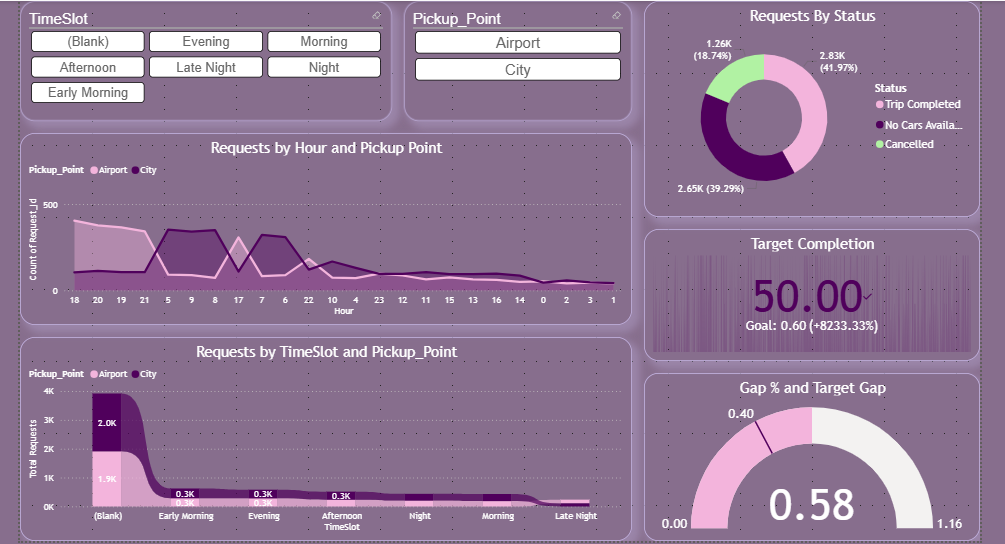

What the dashboard file says about the page in this screenshot:
{"tool":"powerbi","page":{"name":"Page 2","canvas":[1280,720],"ordinal":1},"visuals":[{"type":"ChicletSlicer1448559807354","fields":{"Category":["Uber Request Data.TimeSlot"]},"box":[0,0,496,160],"z":0},{"type":"ChicletSlicer1448559807354","fields":{"Category":["Uber Request Data.Pickup_Point"]},"box":[512,0,304,160],"z":1000},{"type":"ribbonChart","title":"Requests by TimeSlot and Pickup_Point","fields":{"Series":["Uber Request Data.Pickup_Point"],"Category":["Uber Request Data.TimeSlot"],"Y":["Uber Request Data.Total Requests"]},"box":[0,448,816,272],"z":2000},{"type":"donutChart","title":"Requests By Status","fields":{"Category":["Uber Request Data.Status"],"Y":["CountNonNull(Uber Request Data.Request_Id)"]},"box":[832,0,448,288],"z":3000},{"type":"areaChart","title":"Requests by Hour and Pickup Point","fields":{"Category":["Uber Request Data.Hour"],"Y":["CountNonNull(Uber Request Data.Request_Id)"],"Series":["Uber Request Data.Pickup_Point"]},"box":[0,176,816,256],"z":4000},{"type":"kpi","title":"Target Completion","fields":{"Indicator":["Uber Request Data.Completion Rate"],"TrendLine":["Uber Request Data.Request_Timestamp"],"Goal":["Uber Request Data.Target Completion"]},"box":[832,304,448,176],"z":4001},{"type":"gauge","fields":{"Y":["Uber Request Data.Gap %"],"TargetValue":["Uber Request Data.Target Gap"]},"box":[832,496,448,224],"z":4002}]}

Visuals, with their boxes on the page's 1280x720 design canvas (x1, y1, x2, y2). These are canvas units, not pixel positions in the 1005x544 screenshot, which may show the page scaled, cropped or inside an application window:
ChicletSlicer1448559807354 - Uber Request Data.TimeSlot: (0, 0, 496, 160)
ChicletSlicer1448559807354 - Uber Request Data.Pickup_Point: (512, 0, 816, 160)
"Requests by TimeSlot and Pickup_Point" ribbonChart: (0, 448, 816, 720)
"Requests By Status" donutChart: (832, 0, 1280, 288)
"Requests by Hour and Pickup Point" areaChart: (0, 176, 816, 432)
"Target Completion" kpi: (832, 304, 1280, 480)
gauge - Uber Request Data.Gap % x Uber Request Data.Target Gap: (832, 496, 1280, 720)
